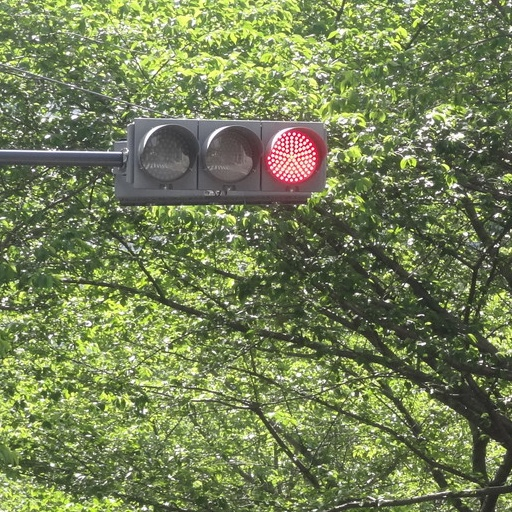Traffic_Signal_Red: (134, 113, 326, 190)
